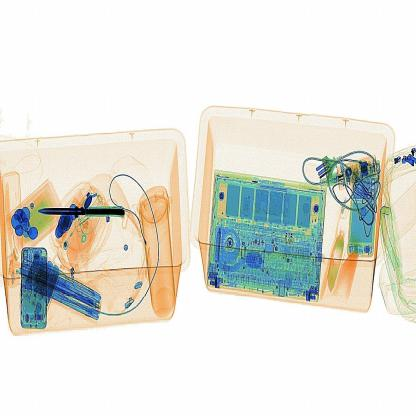gun: (30, 191, 134, 226)
